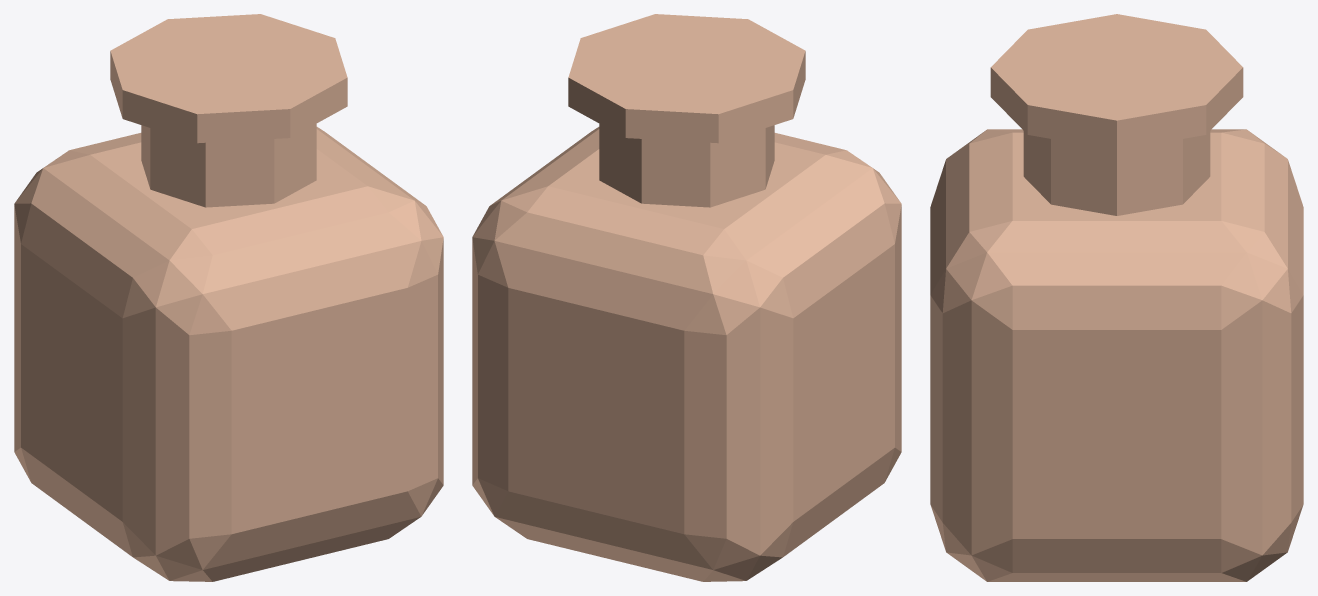
Rendered from jar_a.glb.
The picture shows the model from 3 angles, left to right: view 1: azimuth 30°, elevation 25°; view 2: azimuth 150°, elevation 25°; view 3: azimuth 270°, elevation 25°; orthographic projection. The views are drawn at different scales.
Visible parts, largest first — view 1: root_m0, root_m2, root_m1; view 2: root_m0, root_m2, root_m1; view 3: root_m0, root_m2, root_m1.
Boxes of the visible parts, x1,y1,x2,y2 form: root_m0: (14, 127, 443, 581); root_m2: (110, 14, 347, 143); root_m1: (141, 124, 316, 207); root_m0: (472, 127, 901, 581); root_m2: (568, 14, 805, 143); root_m1: (599, 124, 774, 207); root_m0: (930, 129, 1303, 581); root_m2: (990, 14, 1243, 150); root_m1: (1023, 131, 1210, 215).
Size of the model in its own units: 0.374 by 0.517 by 0.374.
